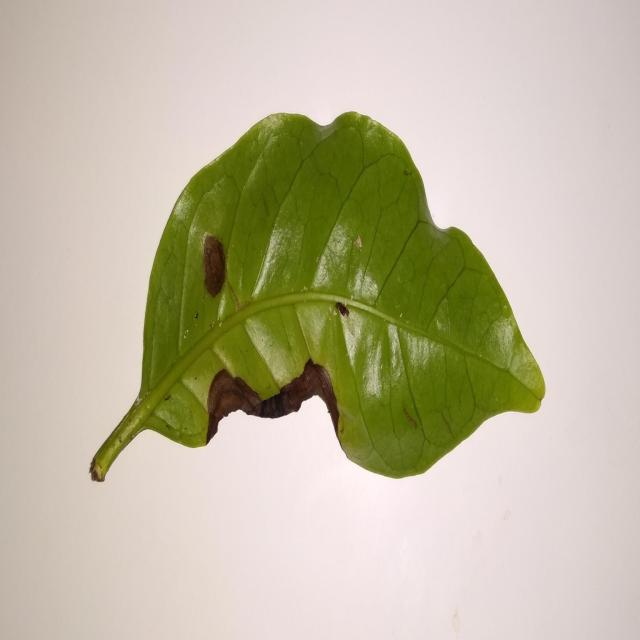Enfermedad-Antracnosis: (88, 111, 547, 484)
